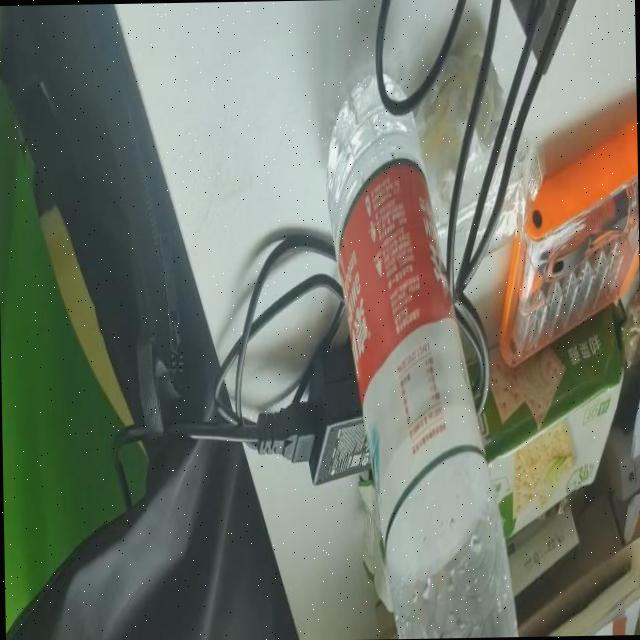bottle: (317, 68, 524, 640)
label: (339, 167, 462, 540)
